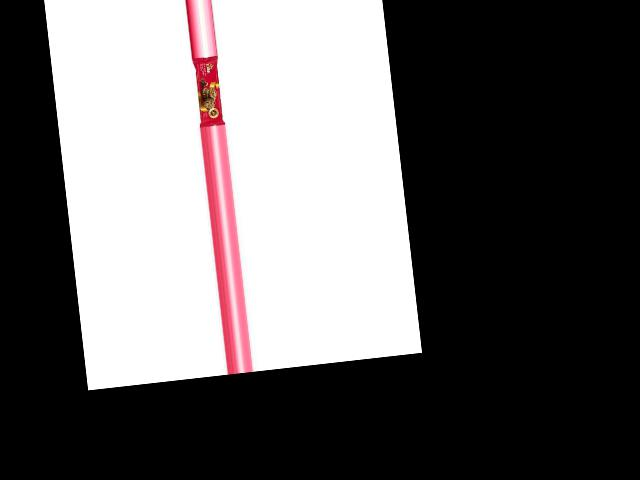chocolate: (189, 55, 224, 126)
